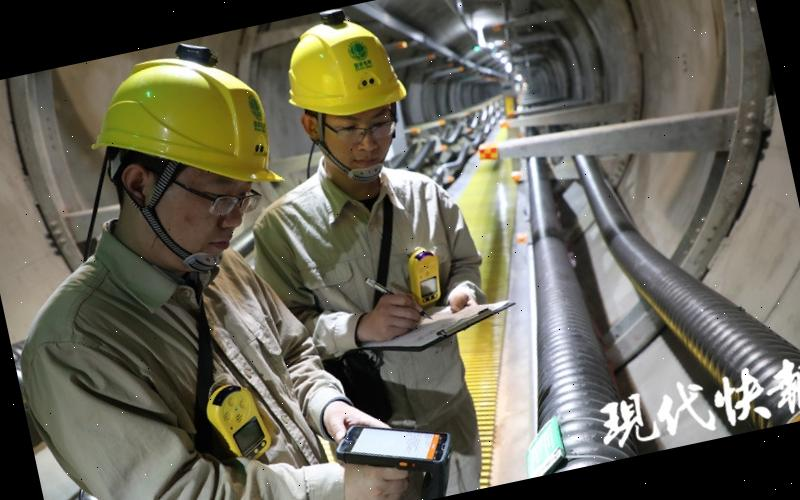helmet: (71, 26, 310, 219), (266, 7, 406, 132)
no_wear: (235, 156, 478, 368)
